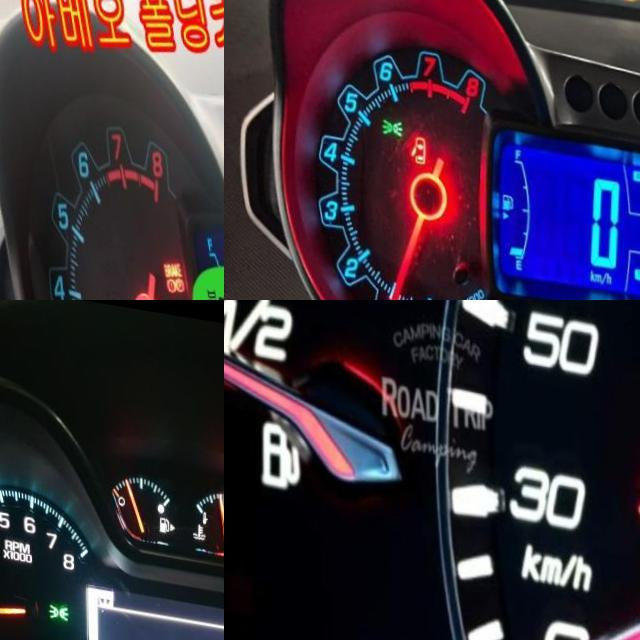Doors: (409, 127, 424, 157)
SideLamp: (378, 110, 400, 132), (47, 594, 67, 613)
